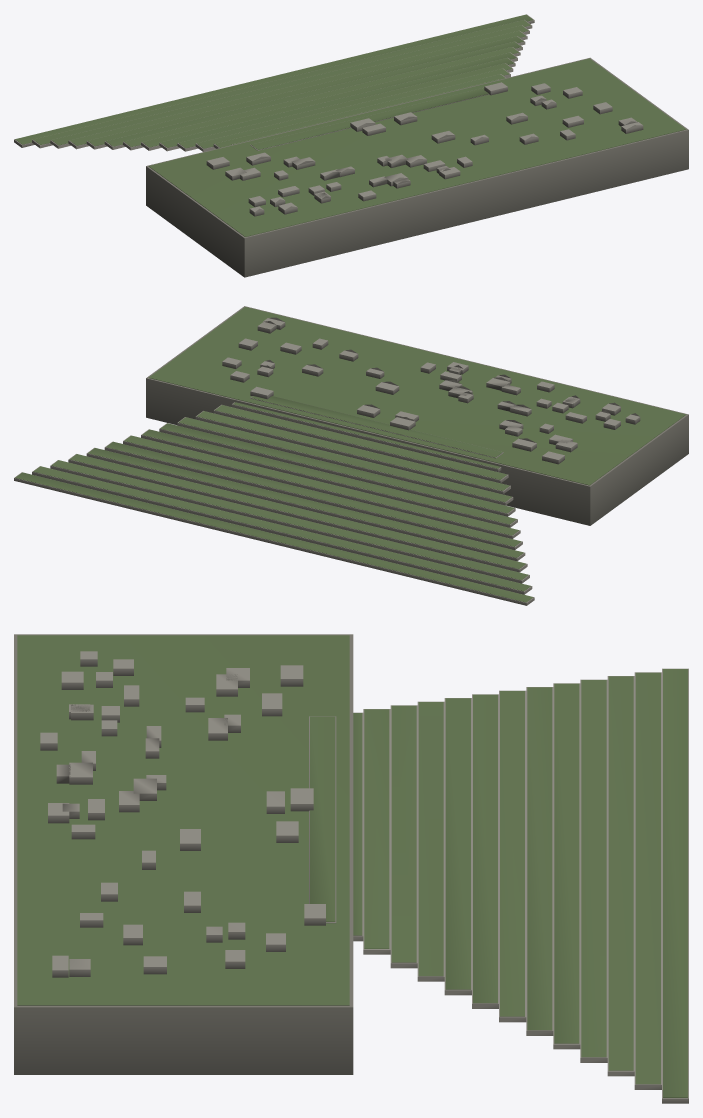
File: machu.glb
3 renders of one model, top to bottom at view 1: azimuth 30°, elevation 25°; view 2: azimuth 150°, elevation 25°; view 3: azimuth 270°, elevation 25°, orthographic. The views are drawn at different scales.
Parts seen in each view (by area): view 1: lack; view 2: lack; view 3: lack.
Boxes of the visible parts, left/top/right/bottom form: lack: left=14, top=14, right=688, bottom=277; lack: left=14, top=306, right=688, bottom=605; lack: left=14, top=634, right=688, bottom=1103.
Size of the model in its own units: 300 by 26 by 199.
